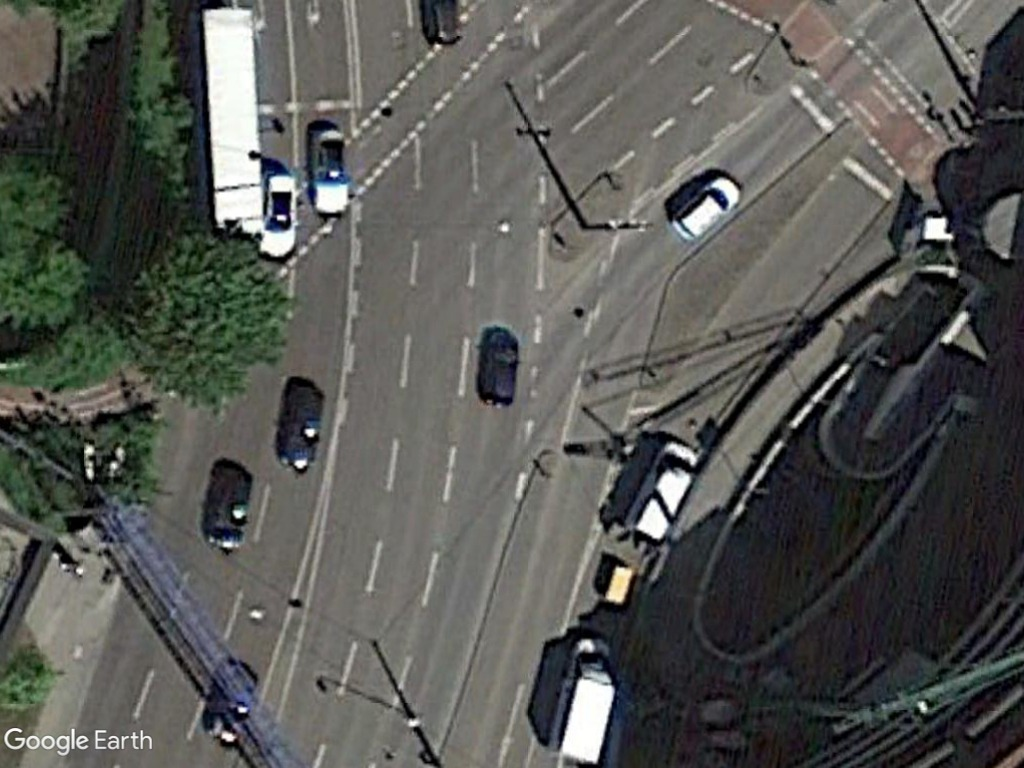bus: (194, 0, 265, 228)
car: (666, 171, 744, 246)
van: (543, 635, 619, 766), (622, 436, 701, 547)
